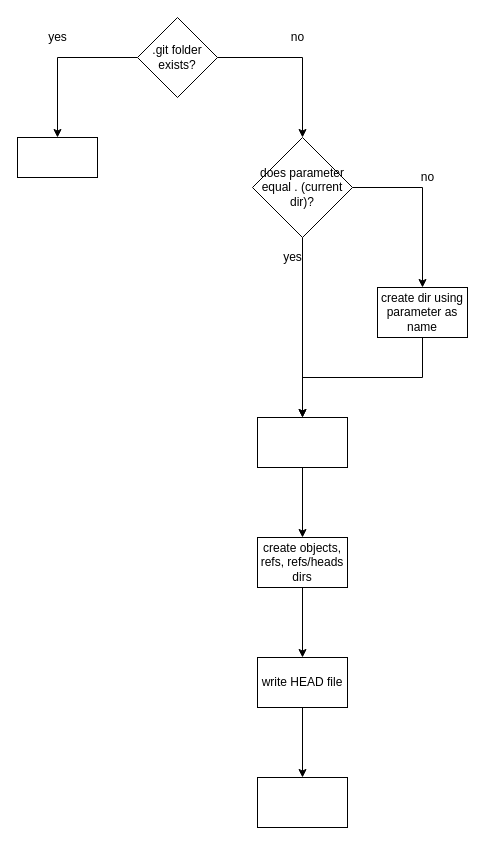
Image size: 485x849. Some labels were removed from this diagram. The centre of each missing label's shape, as x and y in pixels:
create .git directory: the point at 302,442
throw error and exit: the point at 57,157
write name of repo into name file: 'name: [name]': the point at 302,802
